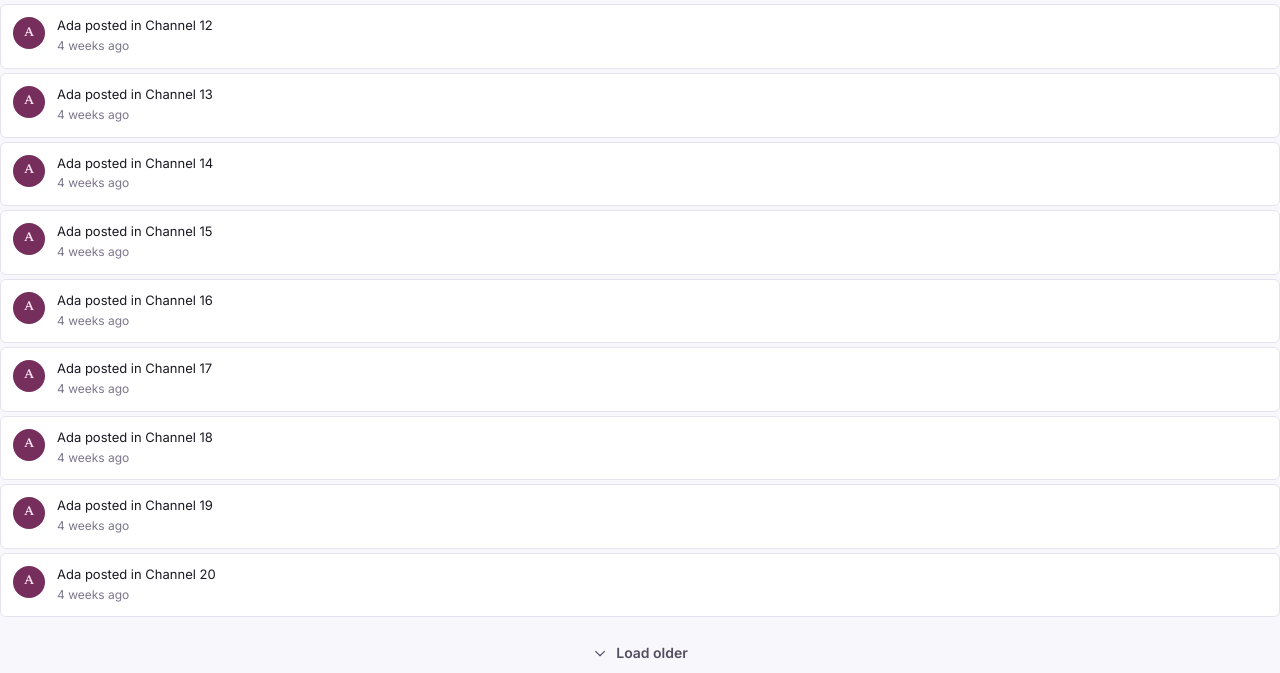
Test: the list › shows twenty, and "Load older" adds each next page under them until there are none
(page scrolled)
What coordinates should you click on to do the following:
click the button "Load older"
I would click on:
 (640, 653)
Its box is 575,633 -> 705,672.
(page scrolled)
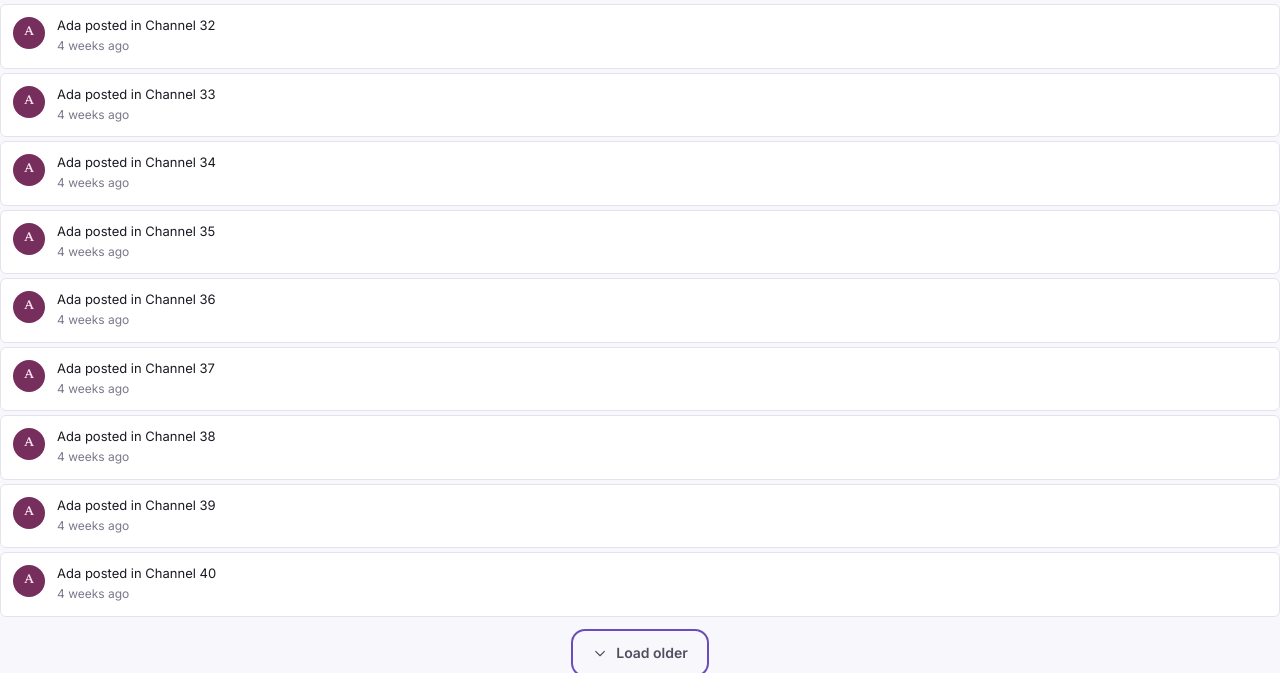
What coordinates should you click on to do the following:
click the button "Load older"
I would click on:
 (640, 653)
Its box is 575,633 -> 705,672.
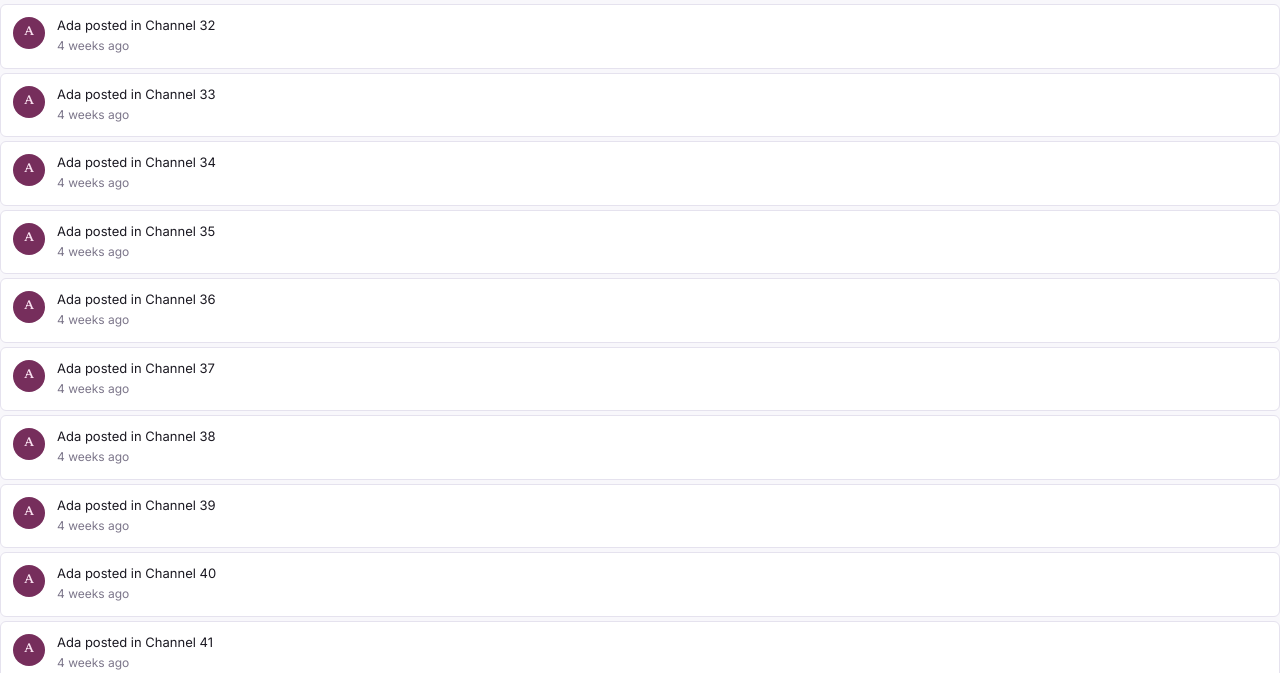
Now the button "Load older" is gone
